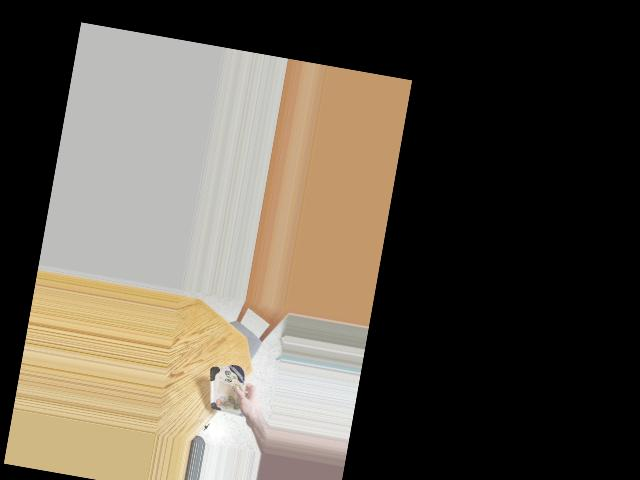cheese: (202, 360, 255, 418)
